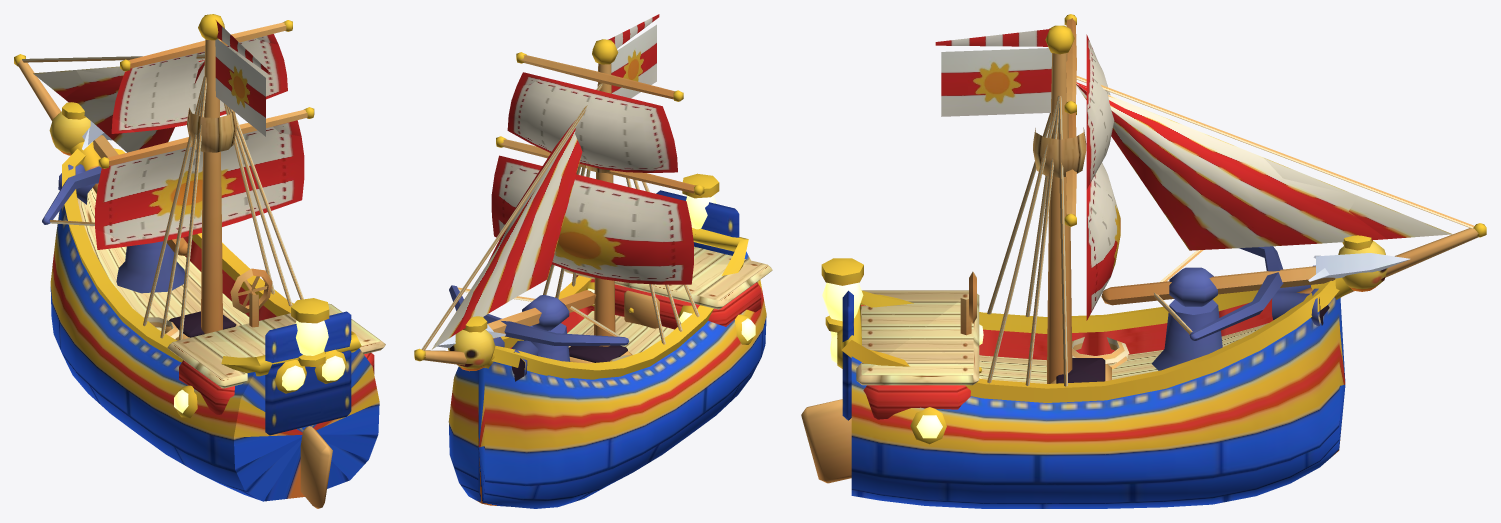
The model's file is navy_chaser.glb.
3 renders of one model, left to right at view 1: azimuth 30°, elevation 25°; view 2: azimuth 150°, elevation 25°; view 3: azimuth 270°, elevation 25°, orthographic. The views are drawn at different scales.
Visible parts, largest first — view 1: Hull, Rigging, Sail0_0, Sail0_1, Guns0, Jib, Flag; view 2: Hull, Sail0_0, Sail0_1, Jib, Rigging, Guns0, Flag; view 3: Hull, Jib, Rigging, Guns0, Flag, Sail0_0, Sail0_1.
Part boxes in pixels (x1,y1,x2,y2): Hull: (49,102,385,508); Rigging: (14,14,314,340); Sail0_0: (95,120,304,249); Sail0_1: (111,34,287,133); Guns0: (42,121,187,293); Jib: (33,59,204,152); Flag: (215,20,268,136); Hull: (448,173,772,508); Sail0_0: (491,155,693,284); Sail0_1: (507,72,677,172); Jib: (432,116,582,349); Rigging: (414,39,704,368); Guns0: (434,285,629,381); Flag: (608,14,659,98); Hull: (801,235,1387,508); Jib: (1076,82,1452,250); Rigging: (987,14,1486,386); Guns0: (1101,246,1409,370); Flag: (935,29,1051,116); Sail0_0: (1086,162,1120,320); Sail0_1: (1086,34,1114,189).
Bounding box in the file's own units: 1.21 × 2.27 × 3.07.
8 materials, 8 textured.
